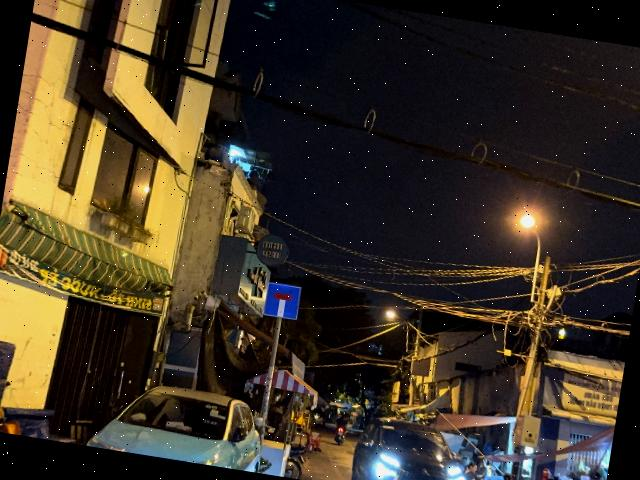duong-cut: (262, 282, 300, 320)
